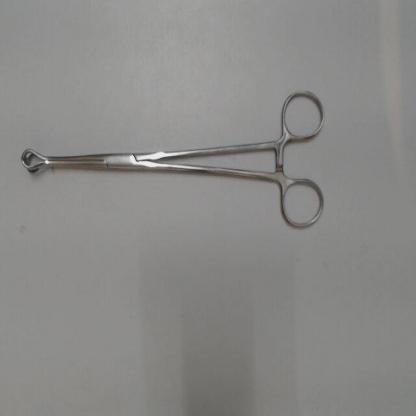8 Babcock Tissue Forceps: (18, 82, 328, 238)
